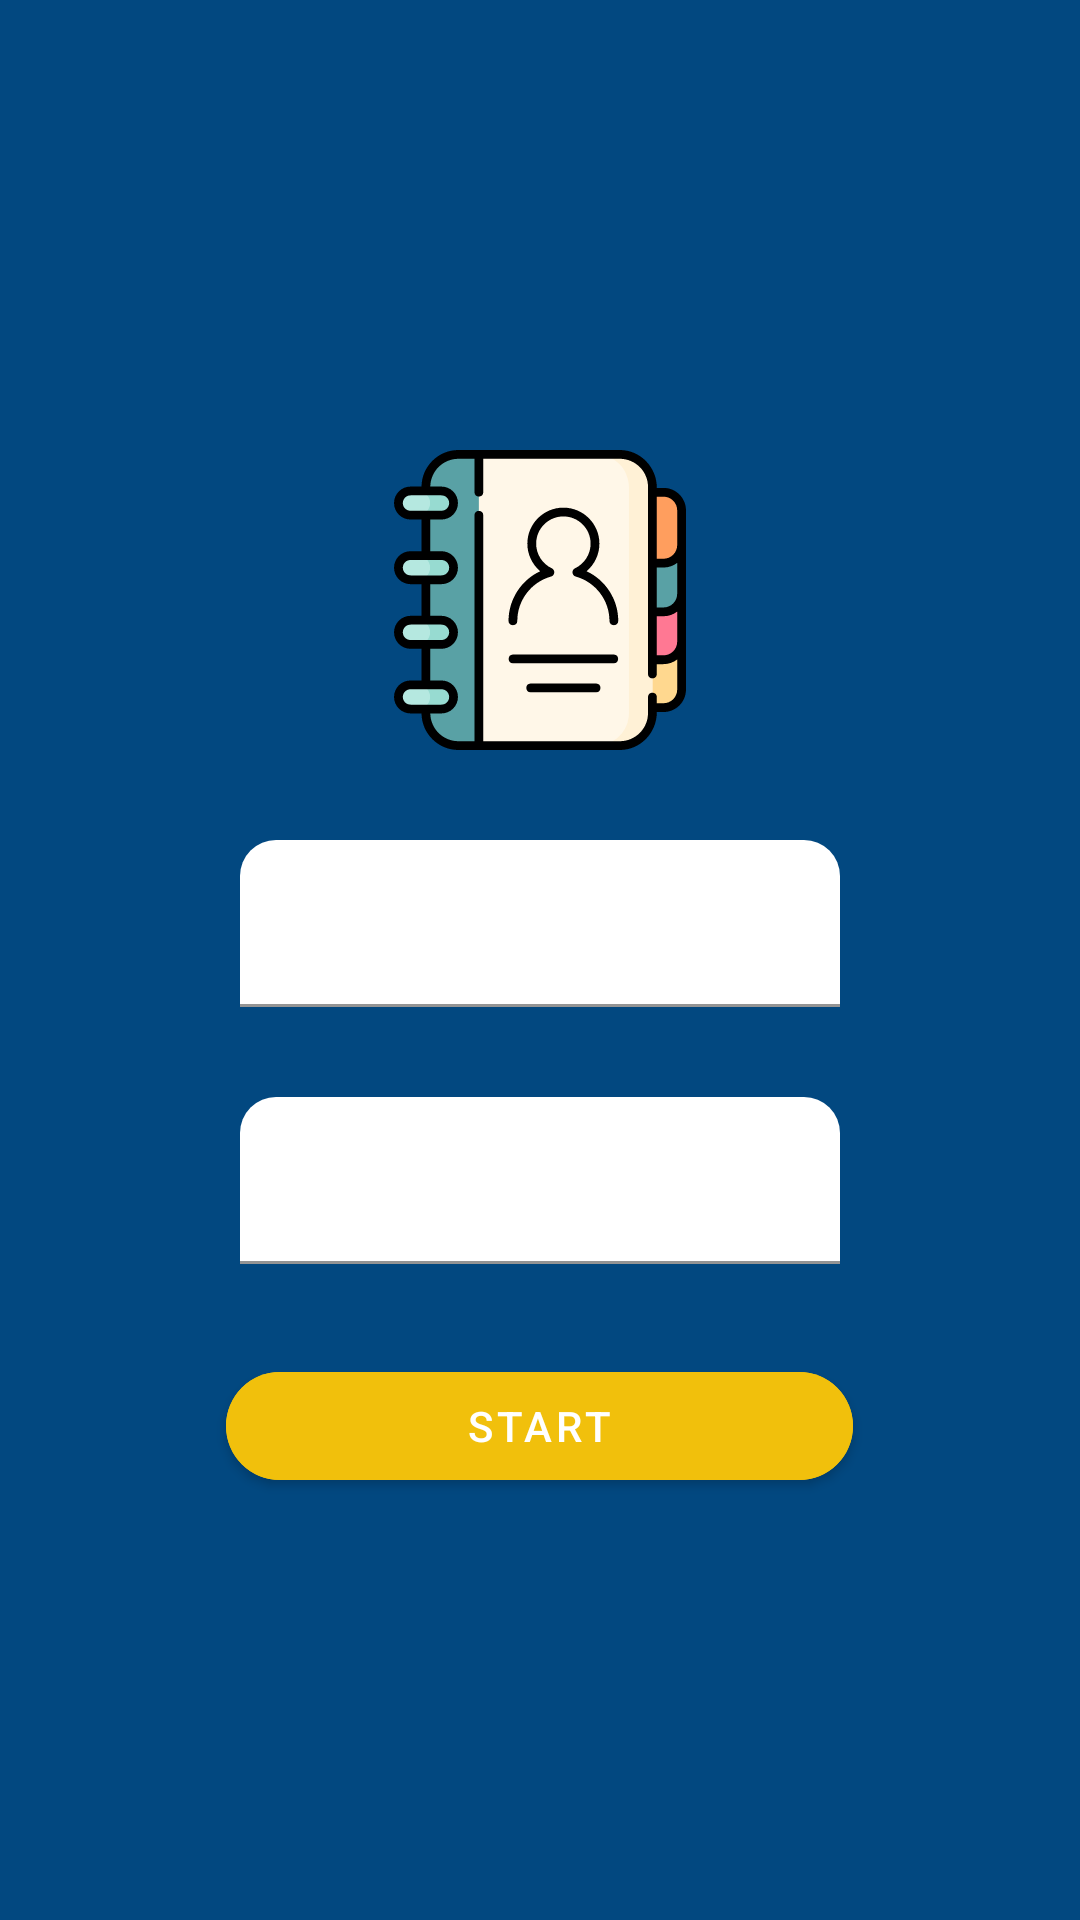

Where icons sit on this 1080 x 1920 app screen, as (x1, y1, x2, y2):
contacts: (394, 450, 686, 750)
